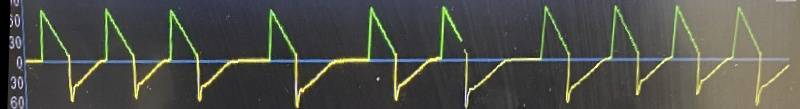normal_flow: (23, 0, 782, 109)
